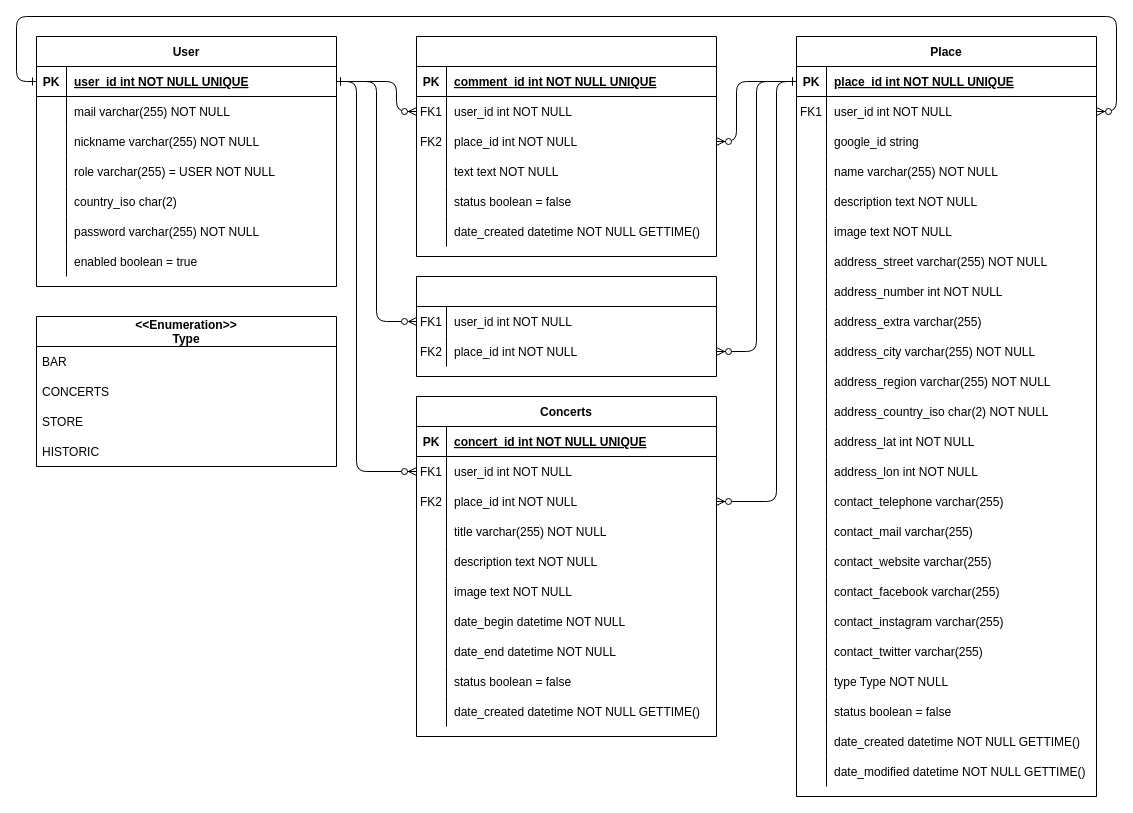
Some shapes in this 1133 by 813 pixel diagram are drawn without their labels. The shapes that lost their labels are listed below. From the top down, each one's box as (x1, y1, x2, y2) in pixels, then its label:
(416, 36, 716, 256): Comments
(416, 276, 716, 376): Places_Users (Likes)
